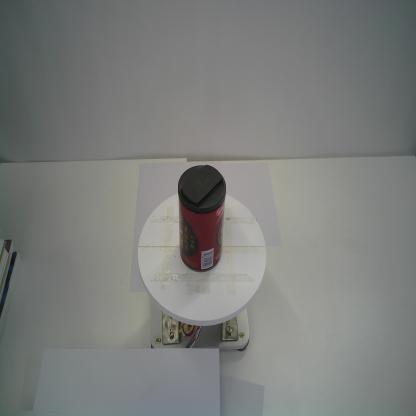Canned Food: (177, 163, 228, 273)
